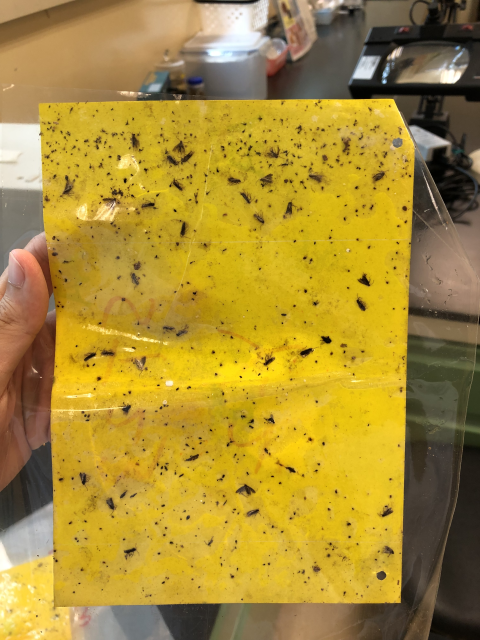DBM: (131, 355, 148, 375), (372, 168, 390, 185), (77, 469, 90, 492), (284, 196, 296, 218), (245, 507, 262, 520)
